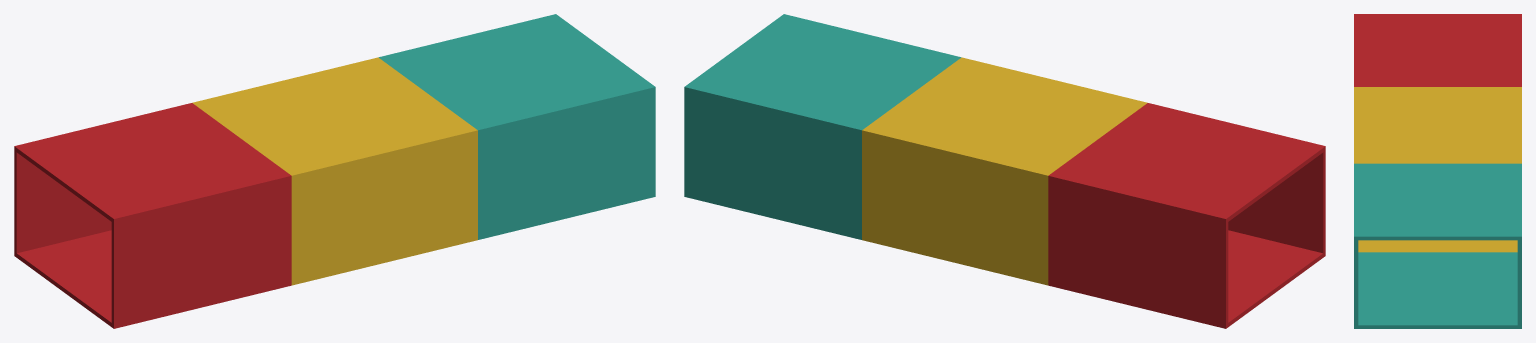
Rendered from calcination_fluidized_bed_cooler_temperature.glb.
The picture shows the model from 3 angles, left to right: view 1: azimuth 30°, elevation 25°; view 2: azimuth 150°, elevation 25°; view 3: azimuth 270°, elevation 25°; orthographic projection. The views are drawn at different scales.
Visible parts, largest first — view 1: temperature__front, temperature__back; view 2: temperature__back, temperature__front; view 3: temperature__back, temperature__front.
Part boxes in pixels (x1,y1,x2,y2): temperature__front: (64,50,655,328); temperature__back: (14,14,605,291); temperature__back: (684,50,1275,328); temperature__front: (734,14,1325,291); temperature__back: (1438,14,1521,328); temperature__front: (1354,14,1437,328).
Size of the model in its own units: 3.2 by 0.62 by 1.02.
